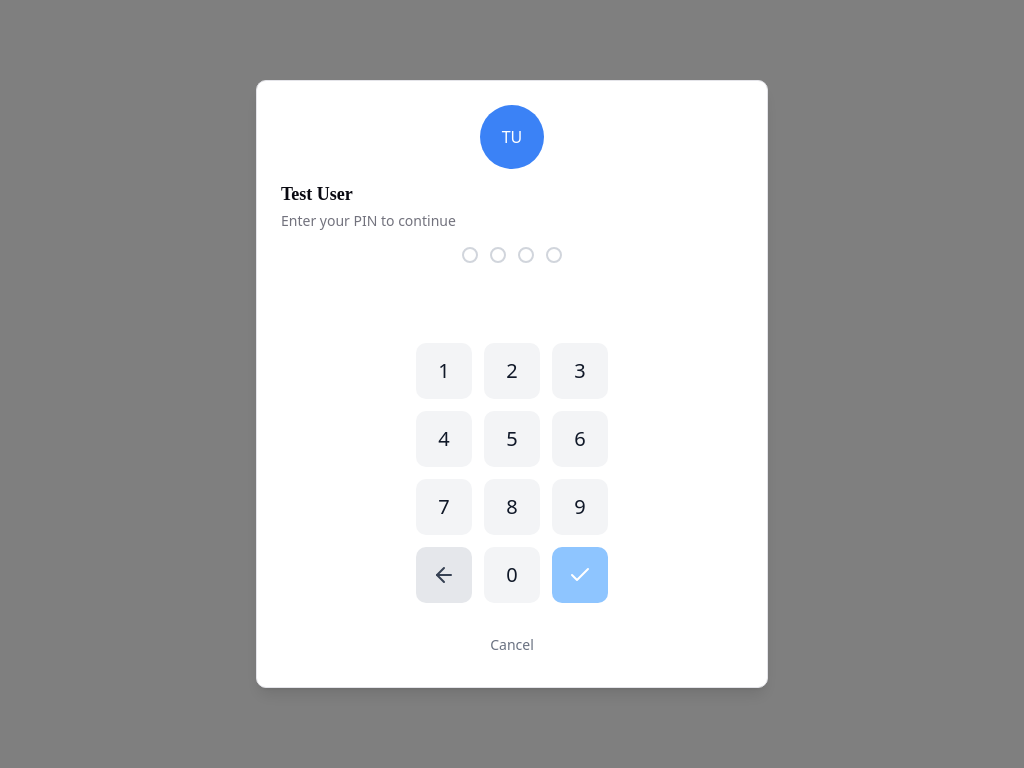
Test: PinEntryModal › PIN verification › displays error when PIN is incorrect
# Enter PIN and submit
Click the button "1" at (444, 371), box left=416, top=343, right=472, bottom=399
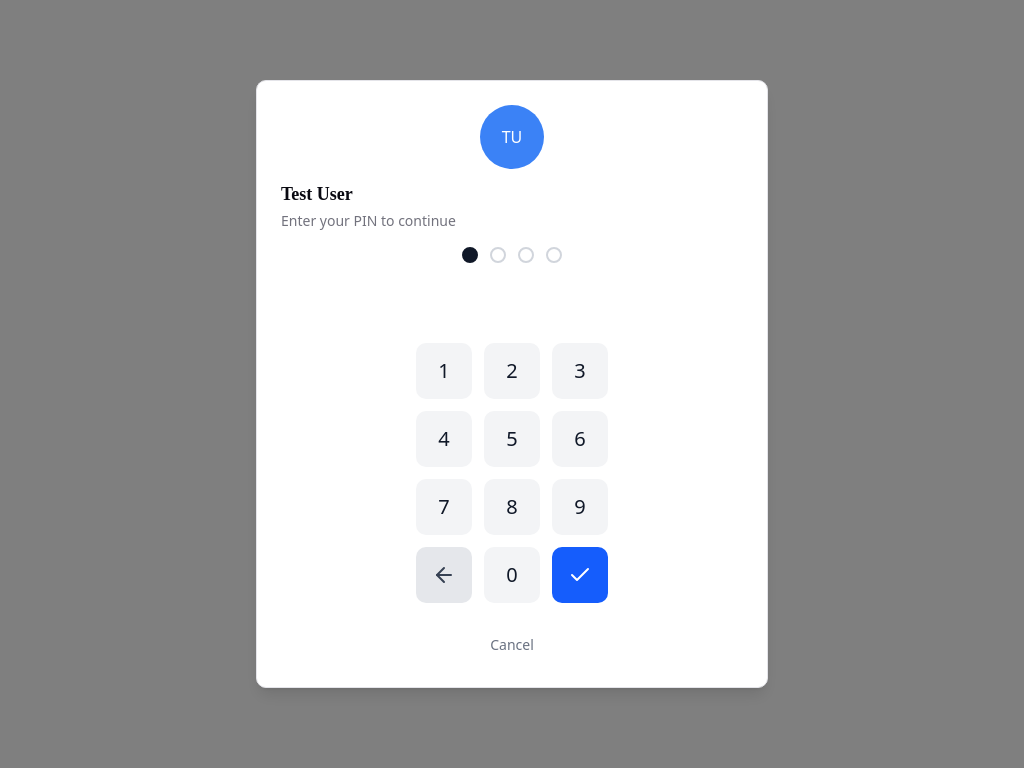
Click the button "2" at (512, 371), box left=484, top=343, right=540, bottom=399
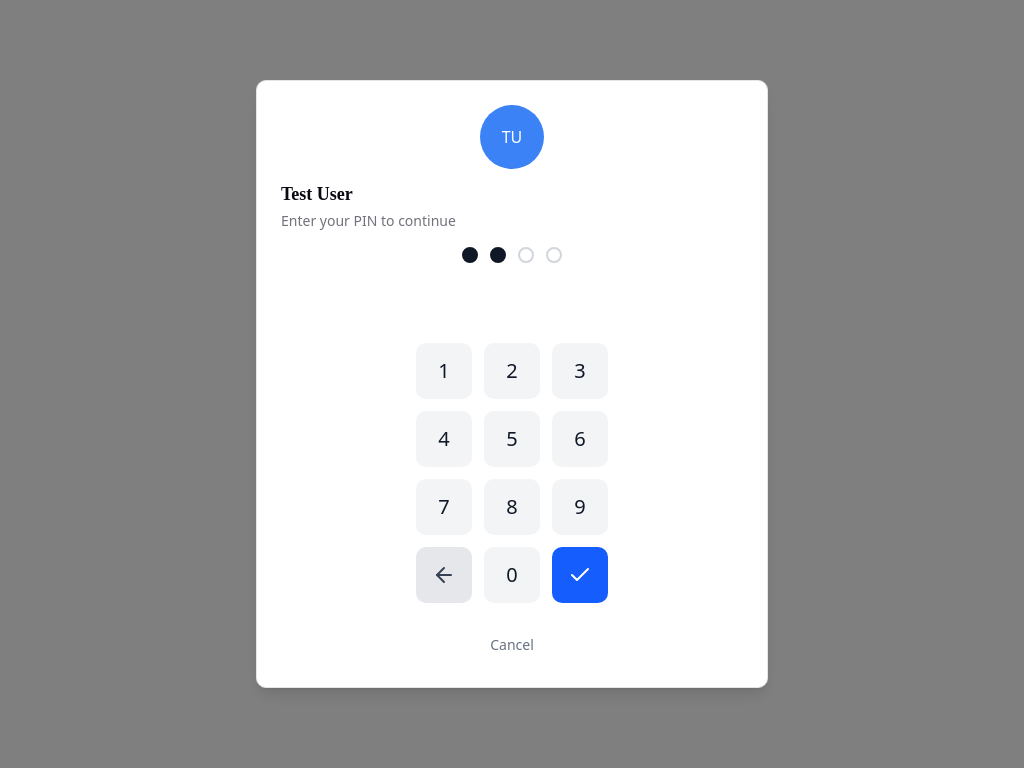
Click the button "3" at (580, 371), box left=552, top=343, right=608, bottom=399
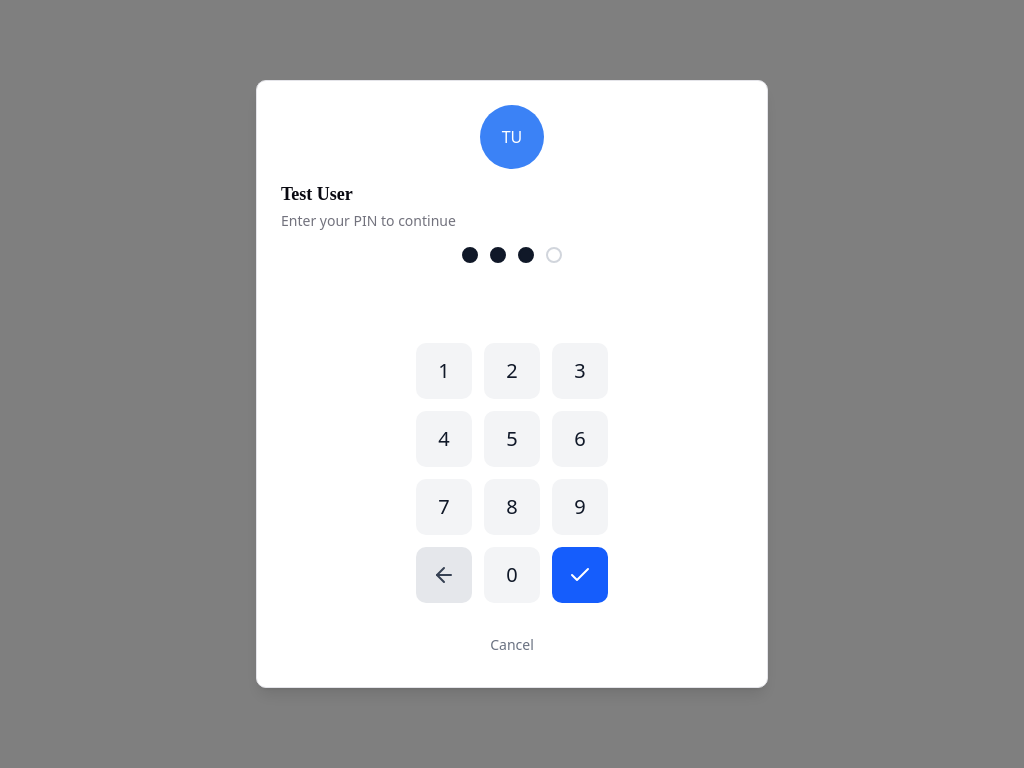
Click the button "4" at (444, 439), box left=416, top=411, right=472, bottom=467
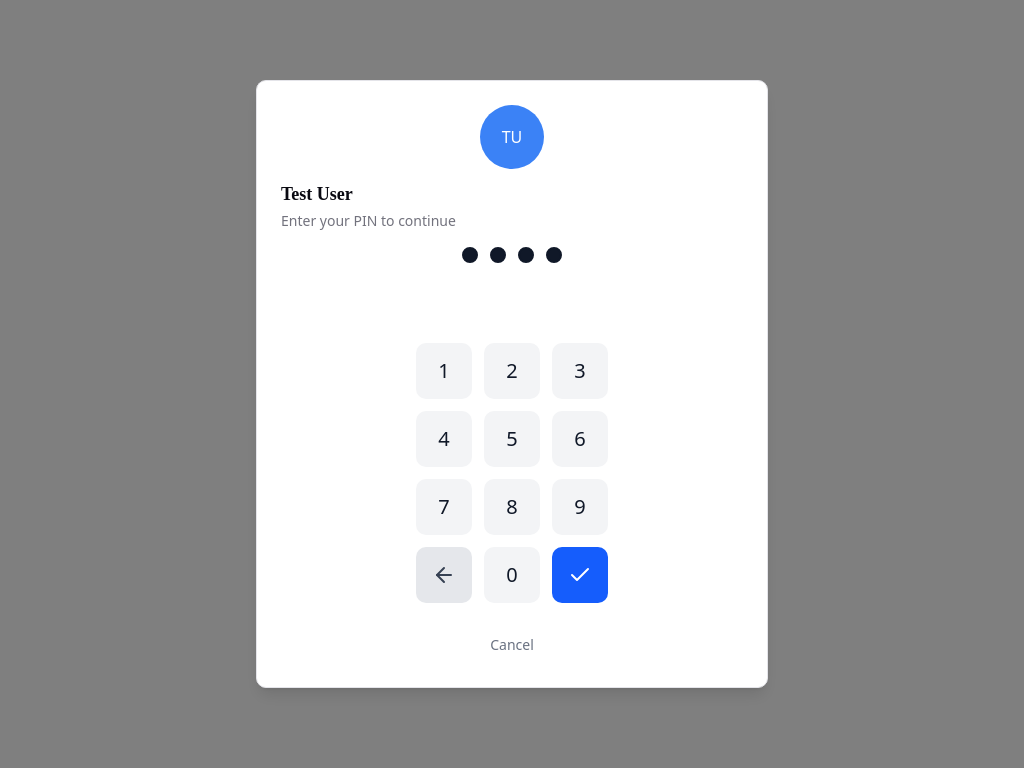
Click the button named "submit" at (580, 575), box left=552, top=547, right=608, bottom=603
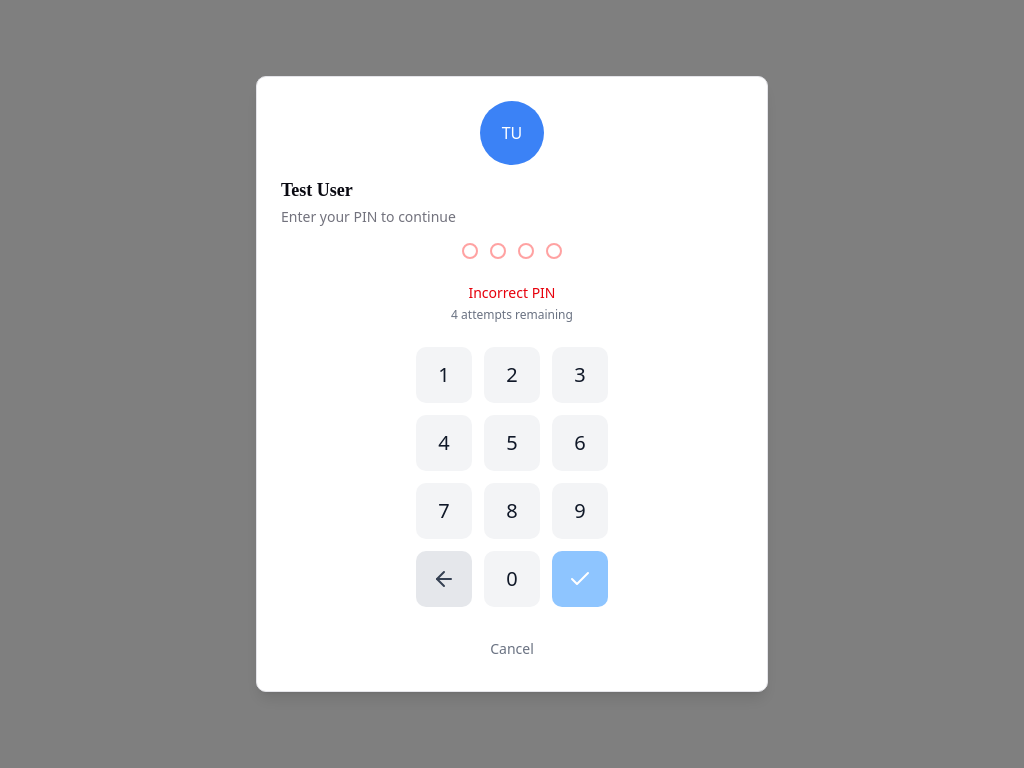
Expected: the text "Incorrect PIN" is shown, left=468, top=283, right=556, bottom=302
